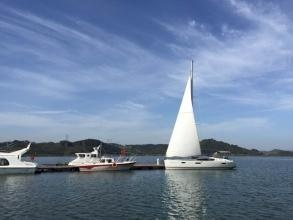fanchuan: (163, 62, 245, 170)
otherboat: (68, 144, 133, 174)
